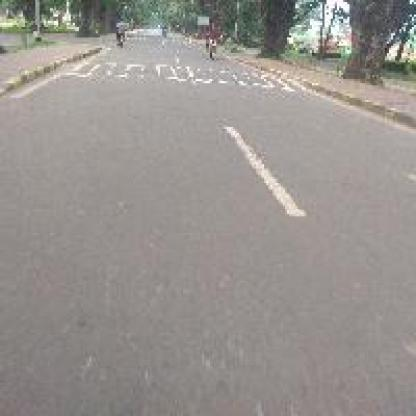Speed Bump: (62, 60, 281, 79)
